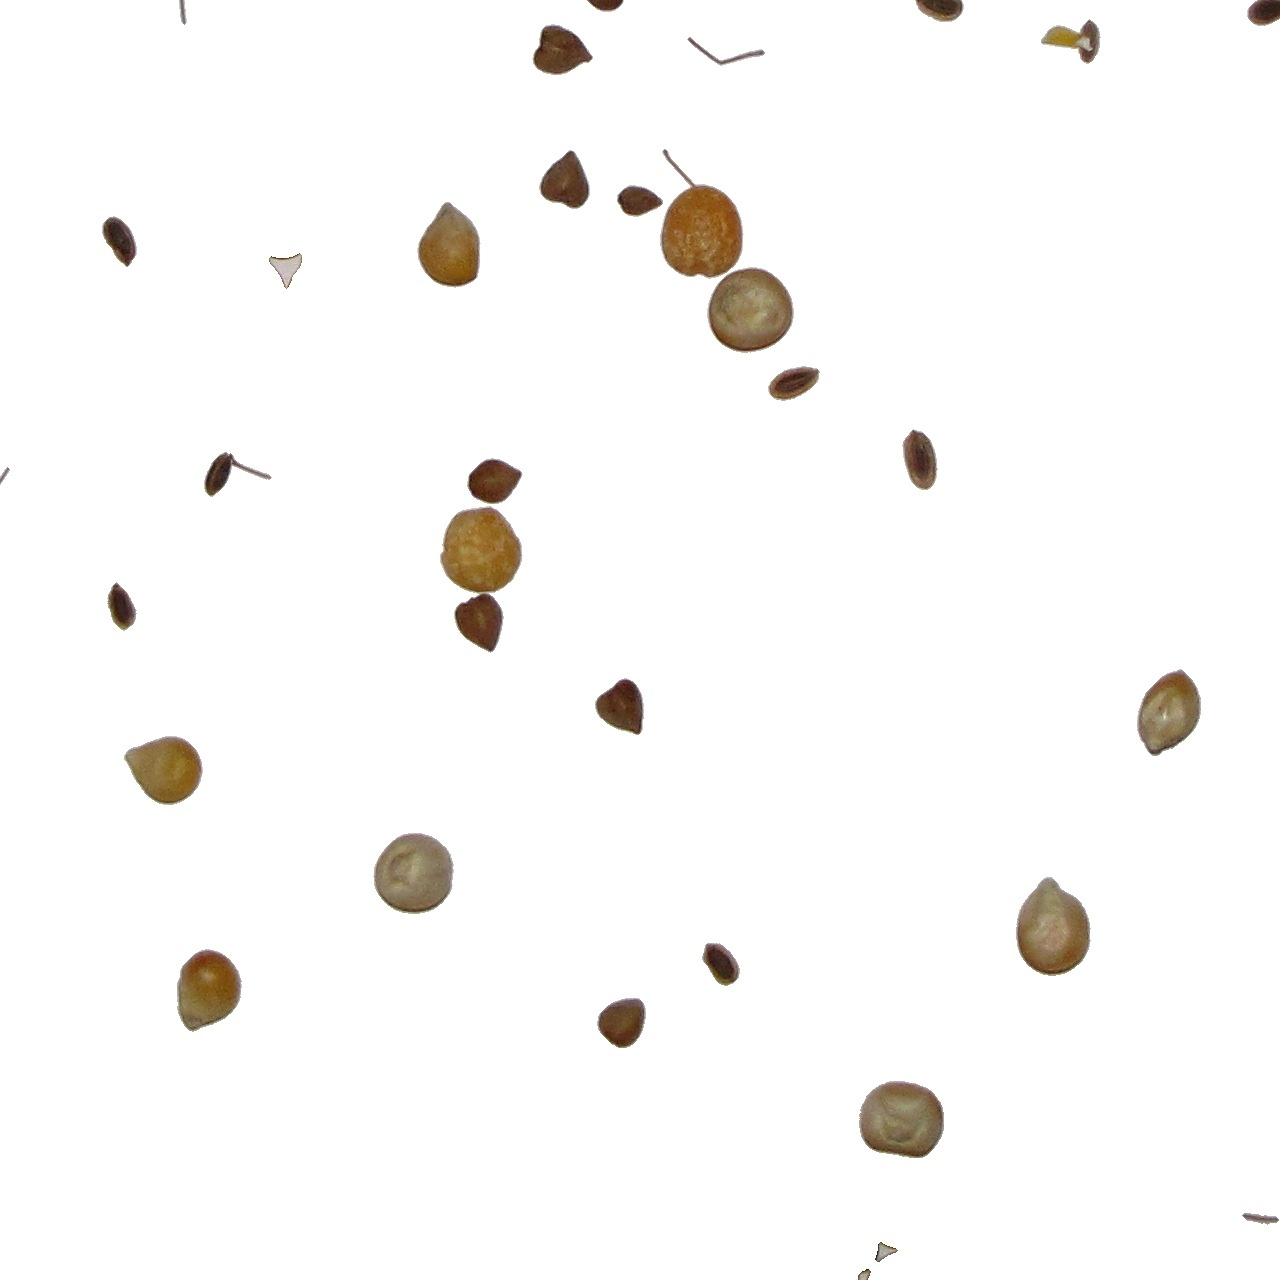buckwheat: (452, 591, 505, 654), (531, 23, 594, 76), (538, 149, 591, 210), (594, 674, 645, 733), (467, 457, 524, 505), (595, 998, 647, 1049), (101, 215, 138, 268), (701, 942, 741, 987), (105, 584, 138, 635), (268, 252, 302, 290)
dill: (203, 451, 273, 498)
mais: (659, 181, 745, 280), (1015, 876, 1092, 978), (706, 266, 795, 354), (440, 505, 524, 595), (372, 832, 455, 915), (858, 1080, 945, 1159), (1136, 668, 1201, 757), (416, 200, 482, 290), (123, 735, 204, 806), (176, 948, 243, 1033)
other: (1040, 18, 1102, 64), (686, 36, 765, 67), (901, 428, 939, 491), (767, 365, 821, 402), (611, 184, 663, 222), (1241, 1212, 1280, 1226), (874, 1241, 899, 1262), (857, 1268, 873, 1280)
